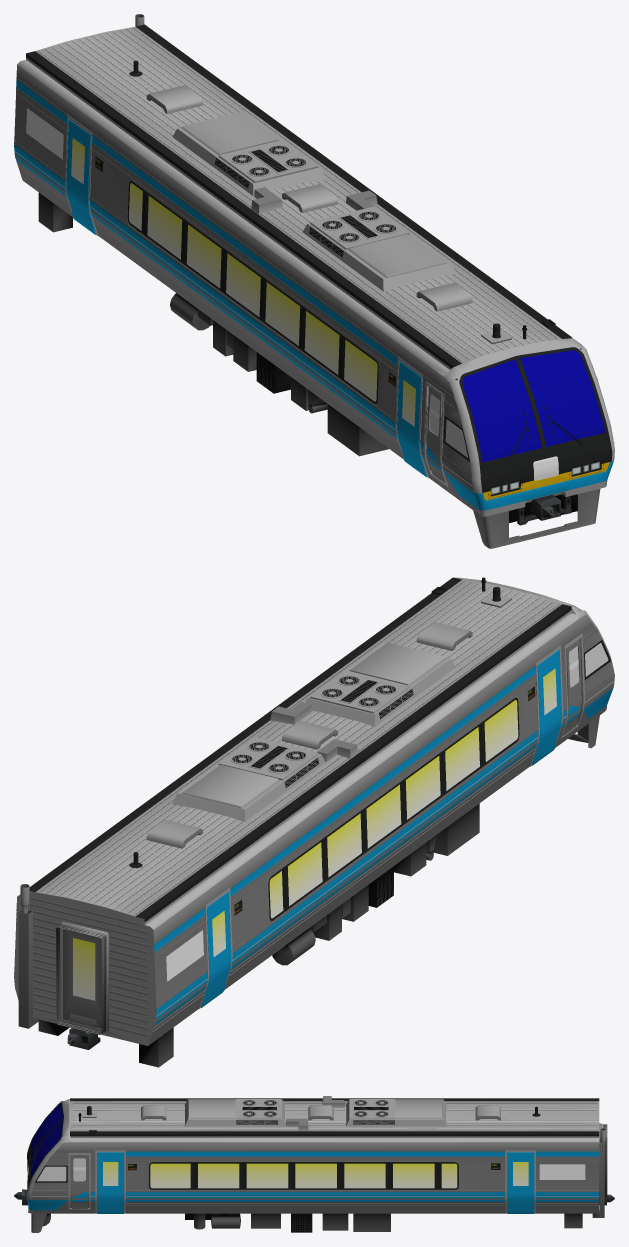
3 renders of one model, top to bottom at view 1: azimuth 30°, elevation 25°; view 2: azimuth 150°, elevation 25°; view 3: azimuth 270°, elevation 25°, orthographic. The views are drawn at different scales.
Visible parts, largest first — view 1: BODY; view 2: BODY; view 3: BODY.
Part boxes in pixels (x1,y1,x2,y2): BODY: [14, 14, 614, 548]; BODY: [14, 577, 614, 1067]; BODY: [14, 1096, 614, 1232].
Bounding box in the file's own units: 7.31 × 8.66 × 42.77.
Materials: 40 (38 with a texture image).
